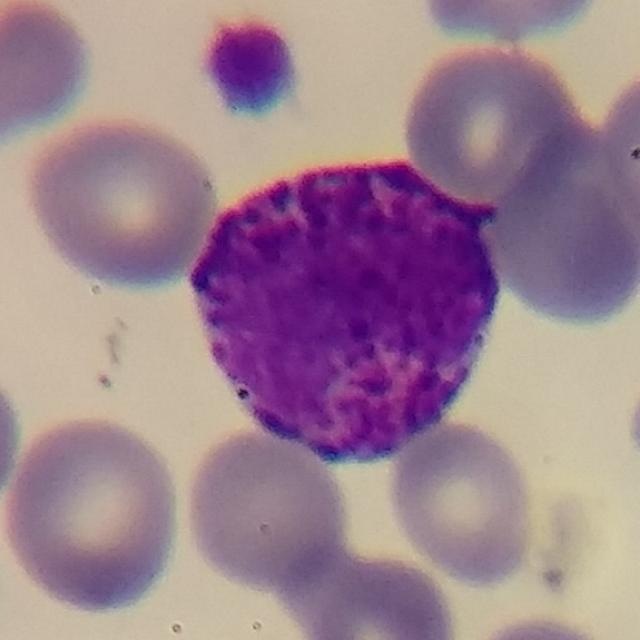baso: (185, 150, 505, 472)
